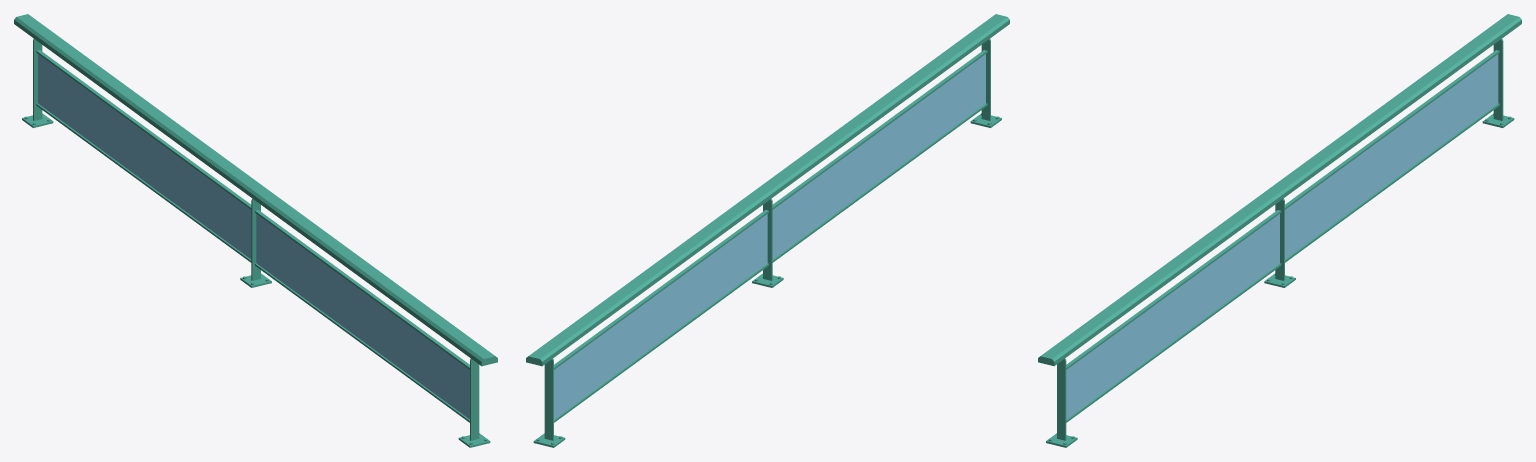
The model's file is Fence_01.FBX.
3 renders of one model, left to right at view 1: azimuth 30°, elevation 25°; view 2: azimuth 150°, elevation 25°; view 3: azimuth 330°, elevation 25°, orthographic.
Parts seen in each view (by area): view 1: Fence_01; view 2: Fence_01; view 3: Fence_01.
Boxes of the visible parts, box(x1,y1,x2,y2) form: Fence_01: box(14, 14, 497, 447); Fence_01: box(526, 14, 1009, 447); Fence_01: box(1038, 14, 1521, 447).
Size of the model in its own units: 0.3 by 1.34 by 12.
